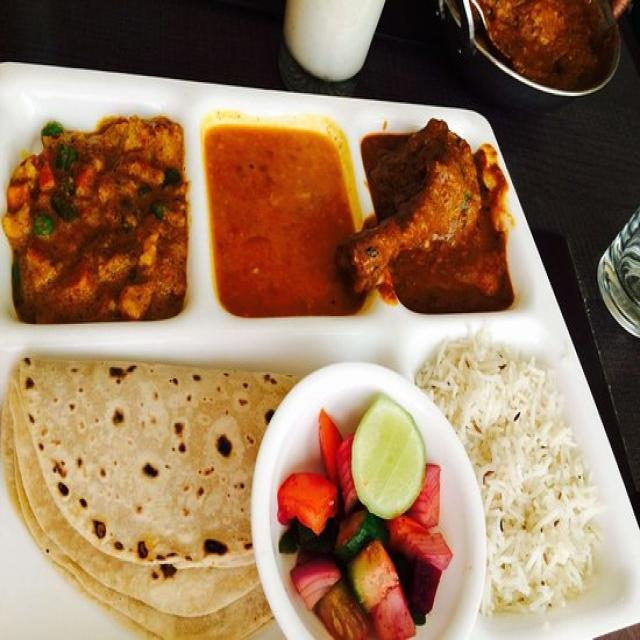non veg meals: (0, 95, 620, 640)
